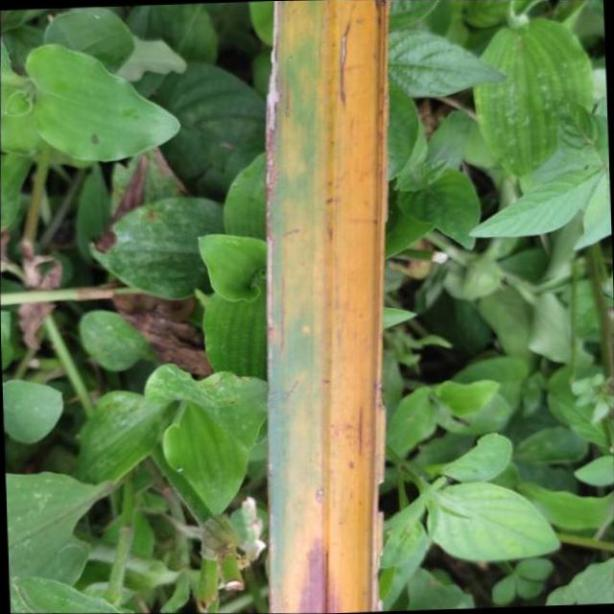Megnesium: (260, 0, 389, 614)
